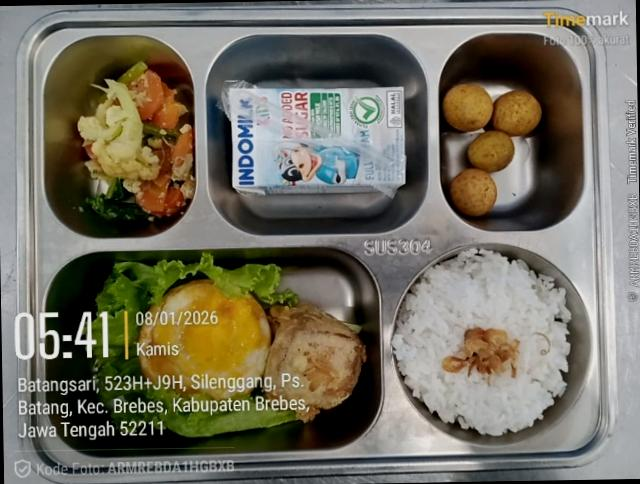buah: (442, 82, 541, 172)
nasi: (392, 248, 571, 434)
sayur: (96, 253, 297, 436), (77, 62, 196, 219)
susu: (278, 91, 309, 137)
tahu: (265, 303, 366, 421)
telur: (137, 279, 271, 399)
